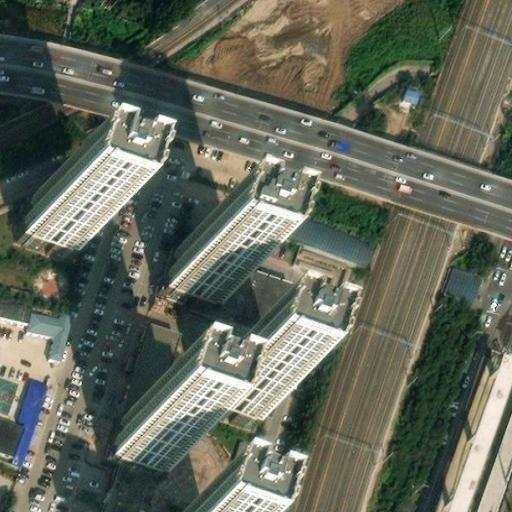building: (126, 312, 183, 422), (113, 404, 181, 467), (21, 186, 90, 248), (206, 352, 274, 414), (167, 237, 235, 299), (97, 452, 151, 512), (13, 374, 45, 453), (28, 302, 73, 354), (438, 263, 483, 307), (397, 81, 422, 106)
